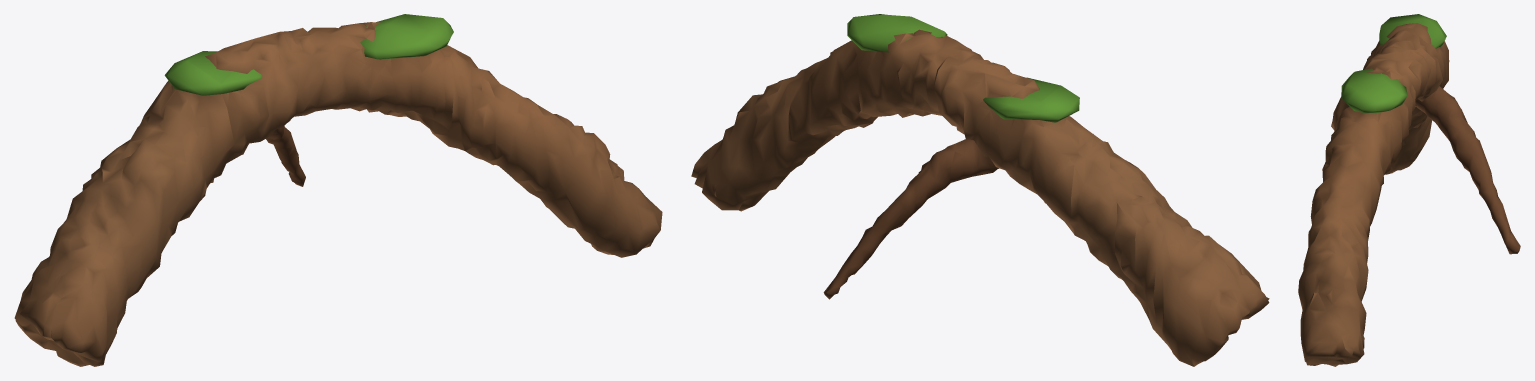
File: glade_root_arch_lod1.glb
3 views of the same model, side by side, from view 1: azimuth 30°, elevation 25°; view 2: azimuth 150°, elevation 25°; view 3: azimuth 270°, elevation 25° (orthographic). The views are drawn at different scales.
Visible parts, largest first — view 1: glade_root_arch.001; view 2: glade_root_arch.001; view 3: glade_root_arch.001.
Part boxes in pixels (x1,y1,x2,y2): glade_root_arch.001: (14, 14, 662, 366); glade_root_arch.001: (691, 14, 1269, 366); glade_root_arch.001: (1298, 14, 1520, 366).
Size of the model in its own units: 16.18 by 6.98 by 6.28.
